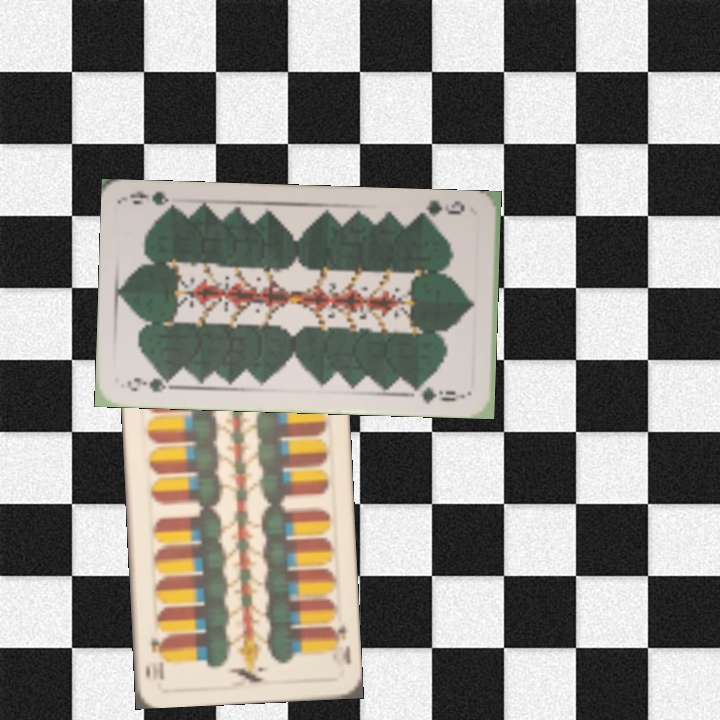E10: (324, 621, 353, 667)
G9: (415, 196, 468, 223), (123, 373, 179, 394)
